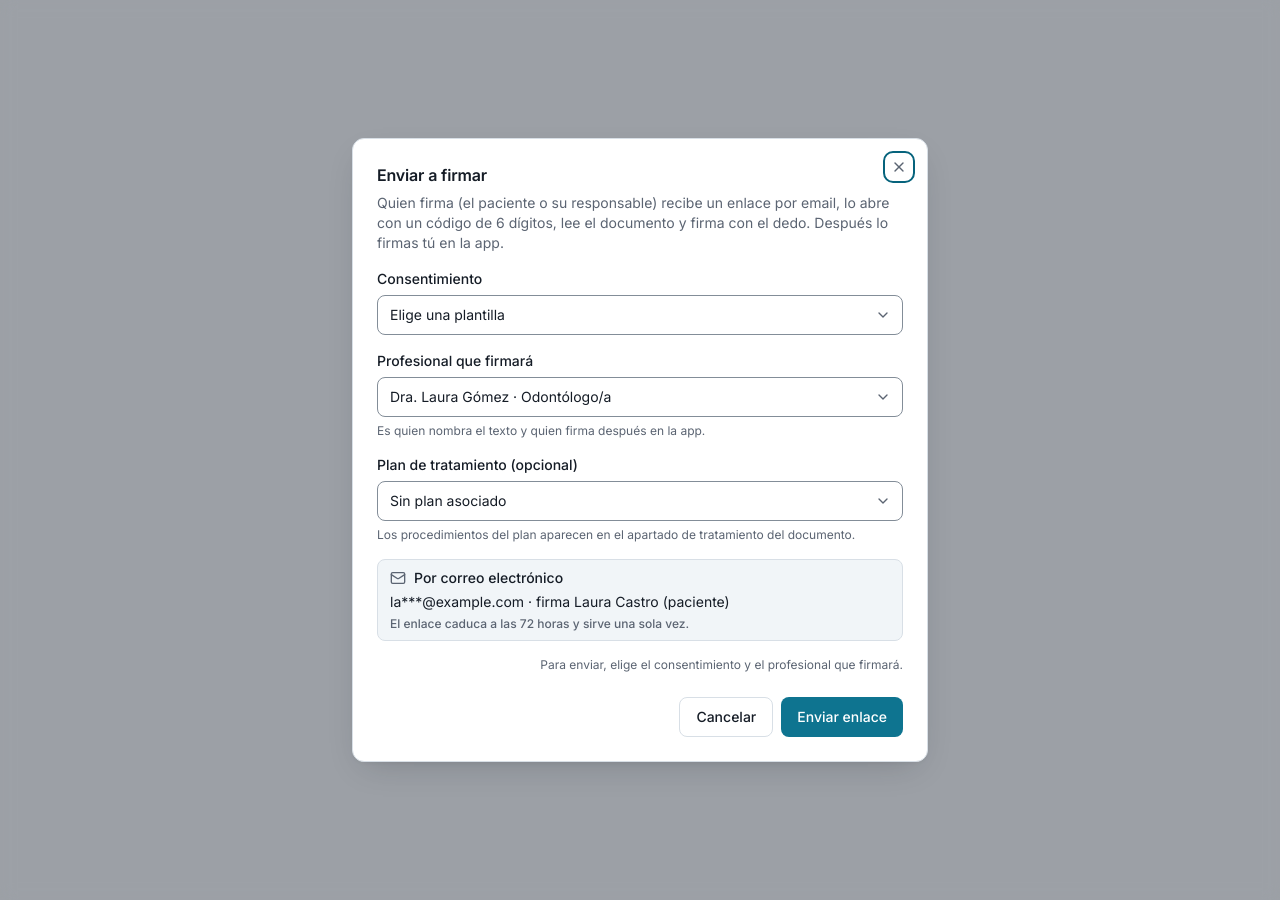
SendToSignModal (DX-243) › un fallo al enviar deja el modal abierto con el motivo en español
Select "Consentimiento informado — Exodoncia" in the dropdown labelled "Consentimiento": coordinates (640, 315) [377,295,903,335]
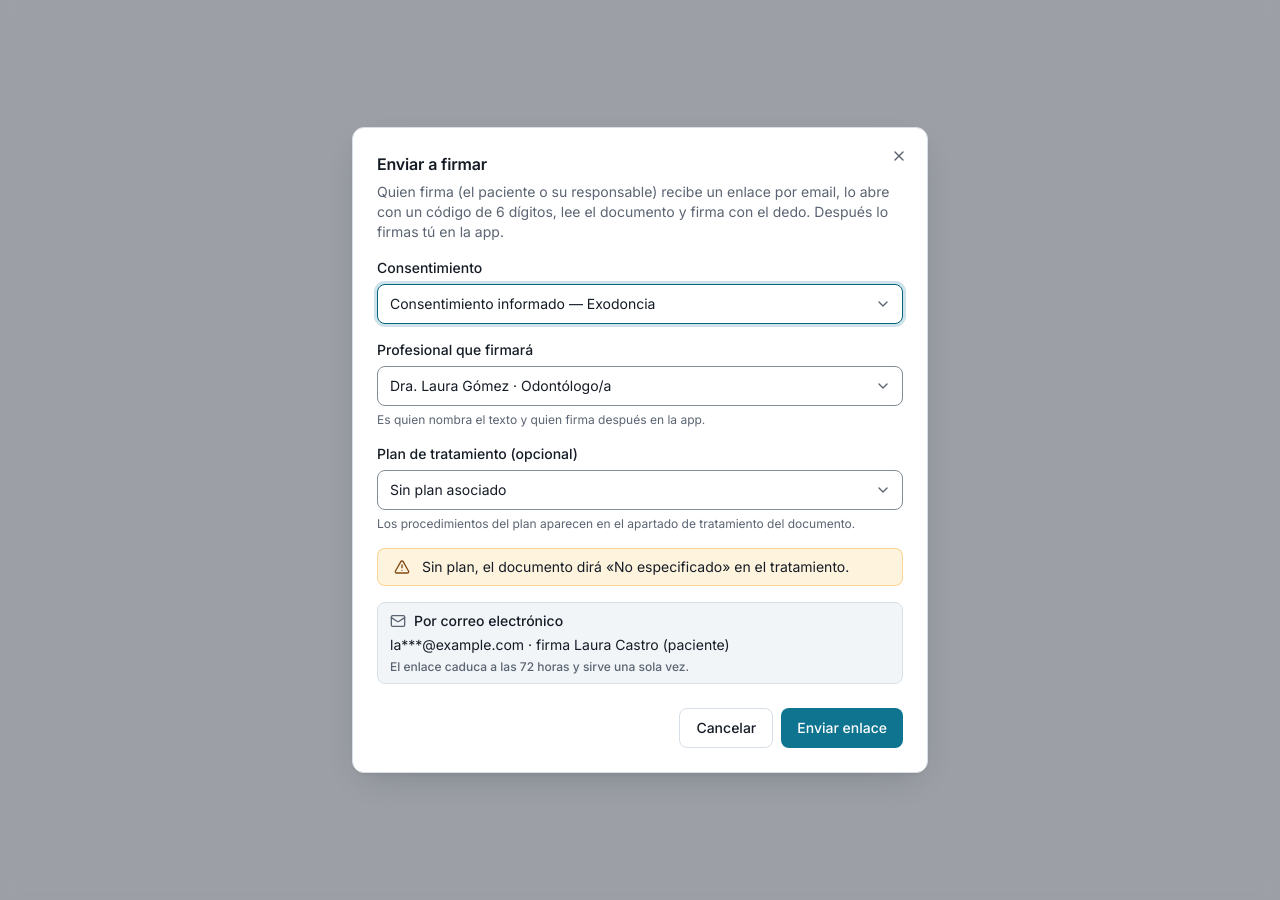
Click the button "Enviar enlace": coordinates (842, 728) [781,708,903,748]
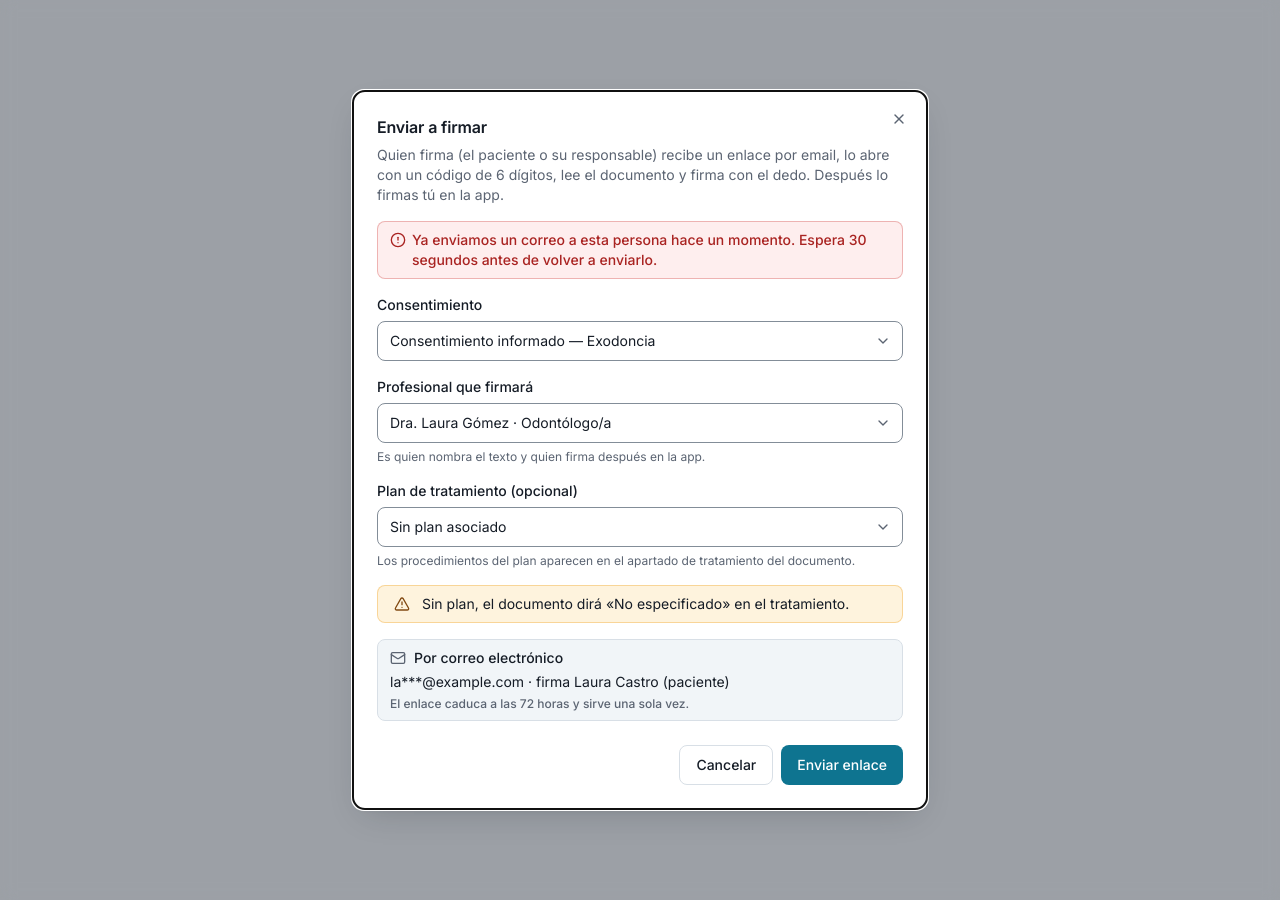
expect the text "Espera 30 segundos" is shown: met, box [412,231,867,268]
